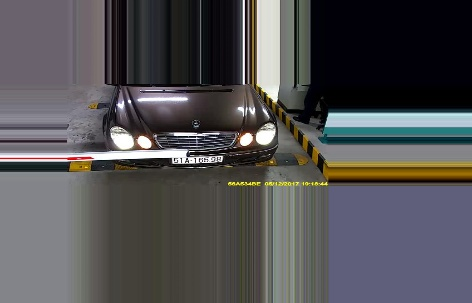plate: (172, 154, 225, 166)
